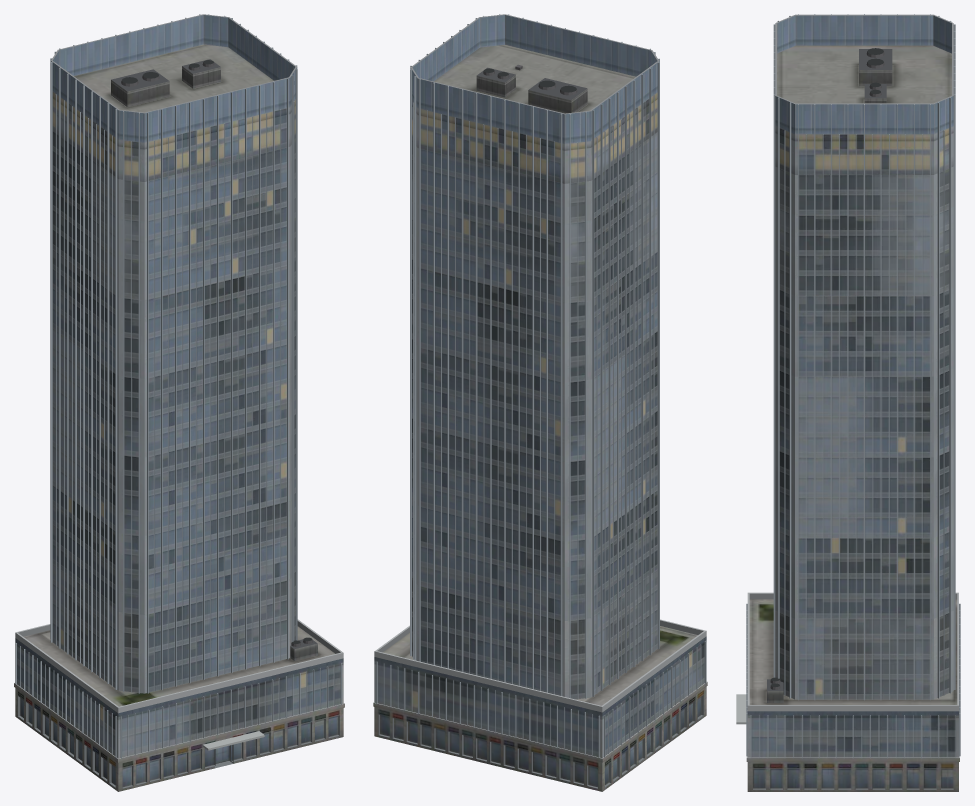
File: seattle_glasstower_a.glb
3 views of the same model, side by side, from view 1: azimuth 30°, elevation 25°; view 2: azimuth 150°, elevation 25°; view 3: azimuth 270°, elevation 25° (orthographic). The views are drawn at different scales.
Visible parts, largest first — view 1: seattle_glasstower_a; view 2: seattle_glasstower_a; view 3: seattle_glasstower_a.
Boxes of the visible parts, left/top/right/bottom form: seattle_glasstower_a: left=14, top=14, right=344, bottom=791; seattle_glasstower_a: left=373, top=14, right=707, bottom=791; seattle_glasstower_a: left=736, top=14, right=960, bottom=791.
Bounding box in the file's own units: 48.47 × 134 × 40.24.
1 material, 1 textured.
